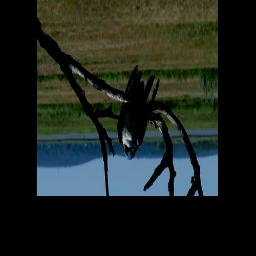Swallow: (116, 63, 162, 163)
